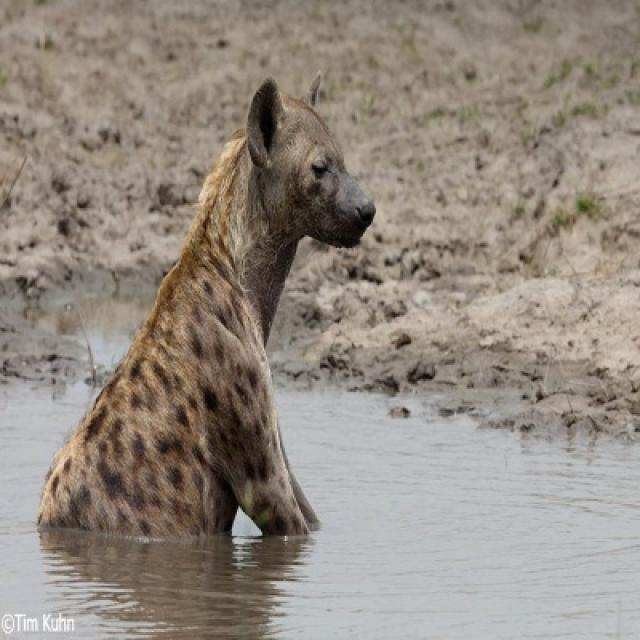hyena: (38, 82, 376, 538)
